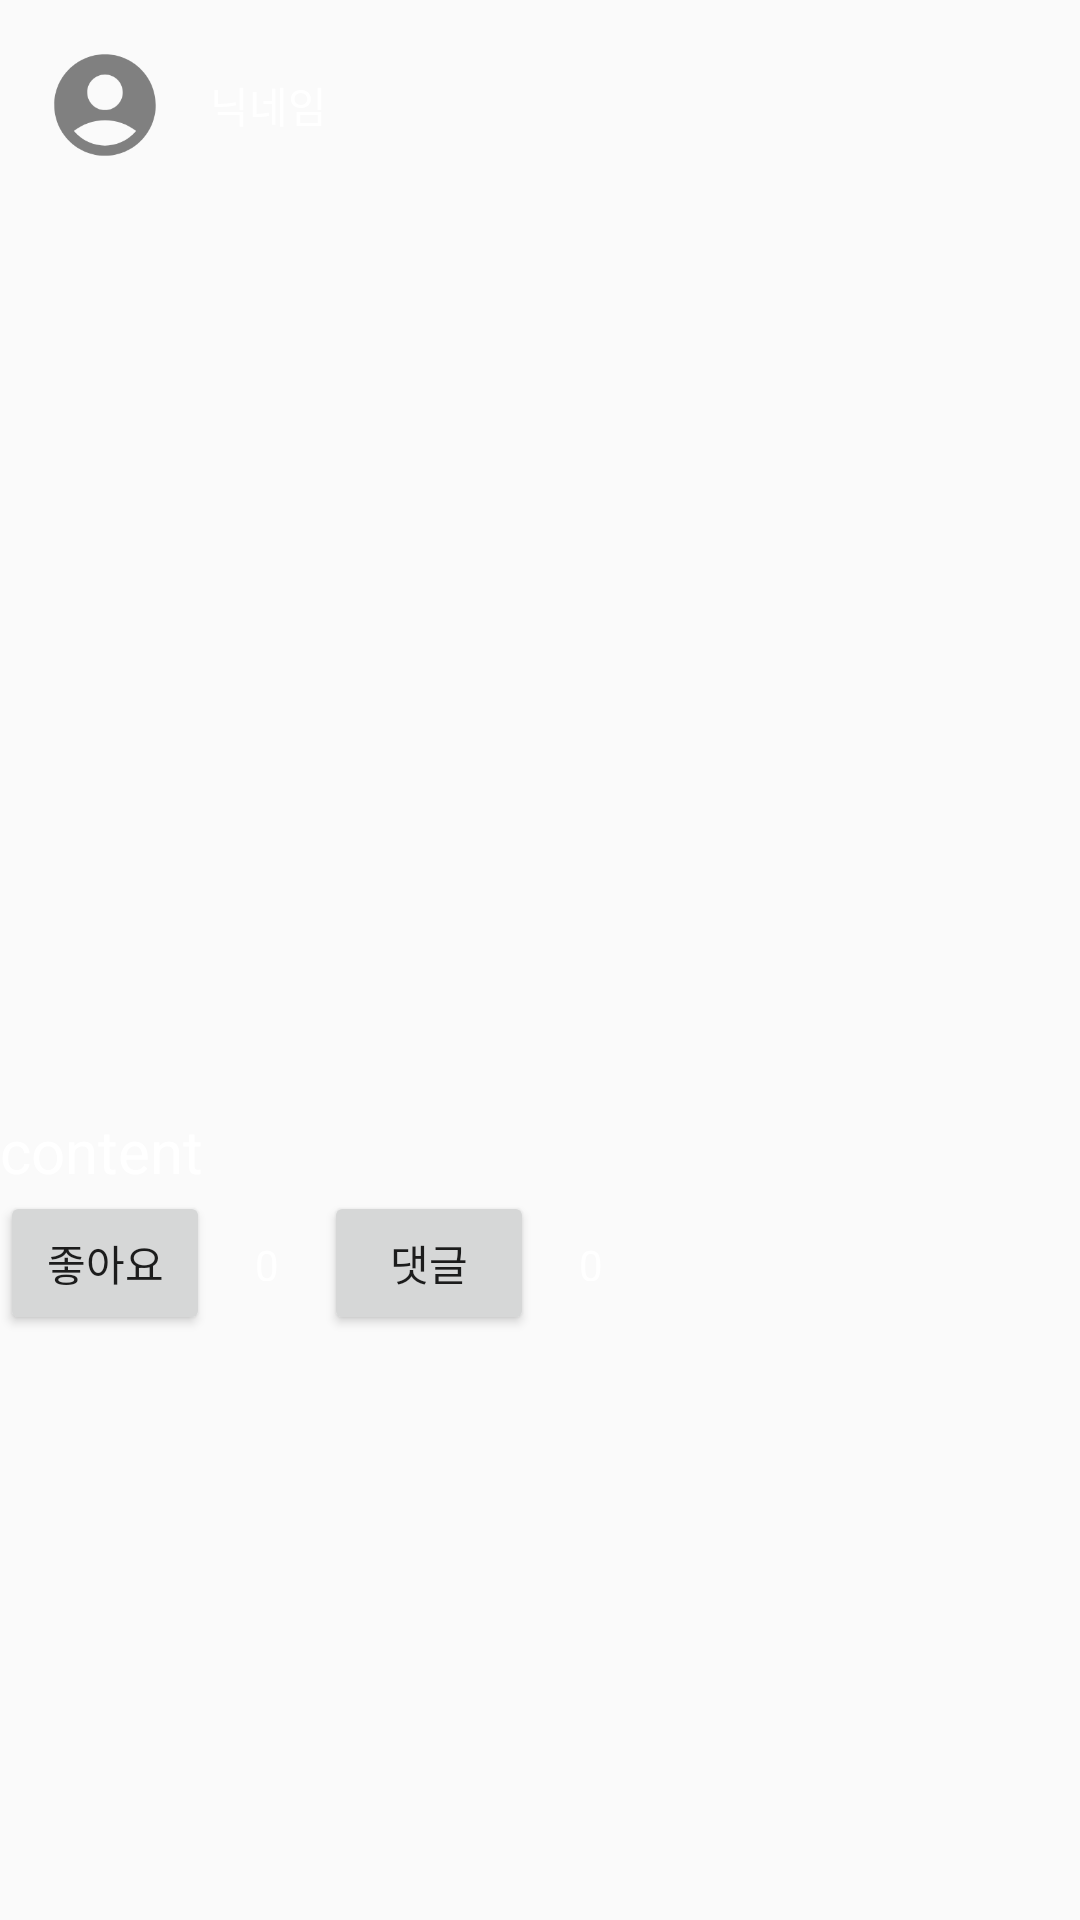

Icons on this 1080w x 1920h Android screen, each with the point to tap as [x,y]:
profile: [105,105]
